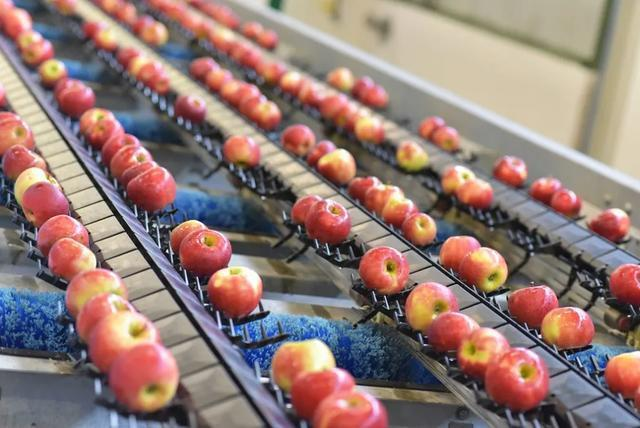apple: (108, 342, 180, 414), (88, 313, 161, 373), (485, 349, 549, 413), (272, 338, 336, 391), (73, 293, 140, 343), (289, 370, 357, 415), (208, 263, 262, 317), (404, 281, 459, 334), (454, 327, 510, 378), (65, 269, 127, 315), (315, 389, 388, 428), (357, 246, 410, 293), (538, 305, 594, 349), (179, 229, 231, 275), (427, 309, 481, 353), (20, 181, 69, 228), (460, 247, 509, 292), (47, 237, 96, 282), (35, 214, 91, 253), (507, 285, 557, 328), (306, 200, 351, 244), (440, 234, 481, 272), (1, 110, 35, 153), (222, 134, 262, 167), (401, 211, 436, 246)
